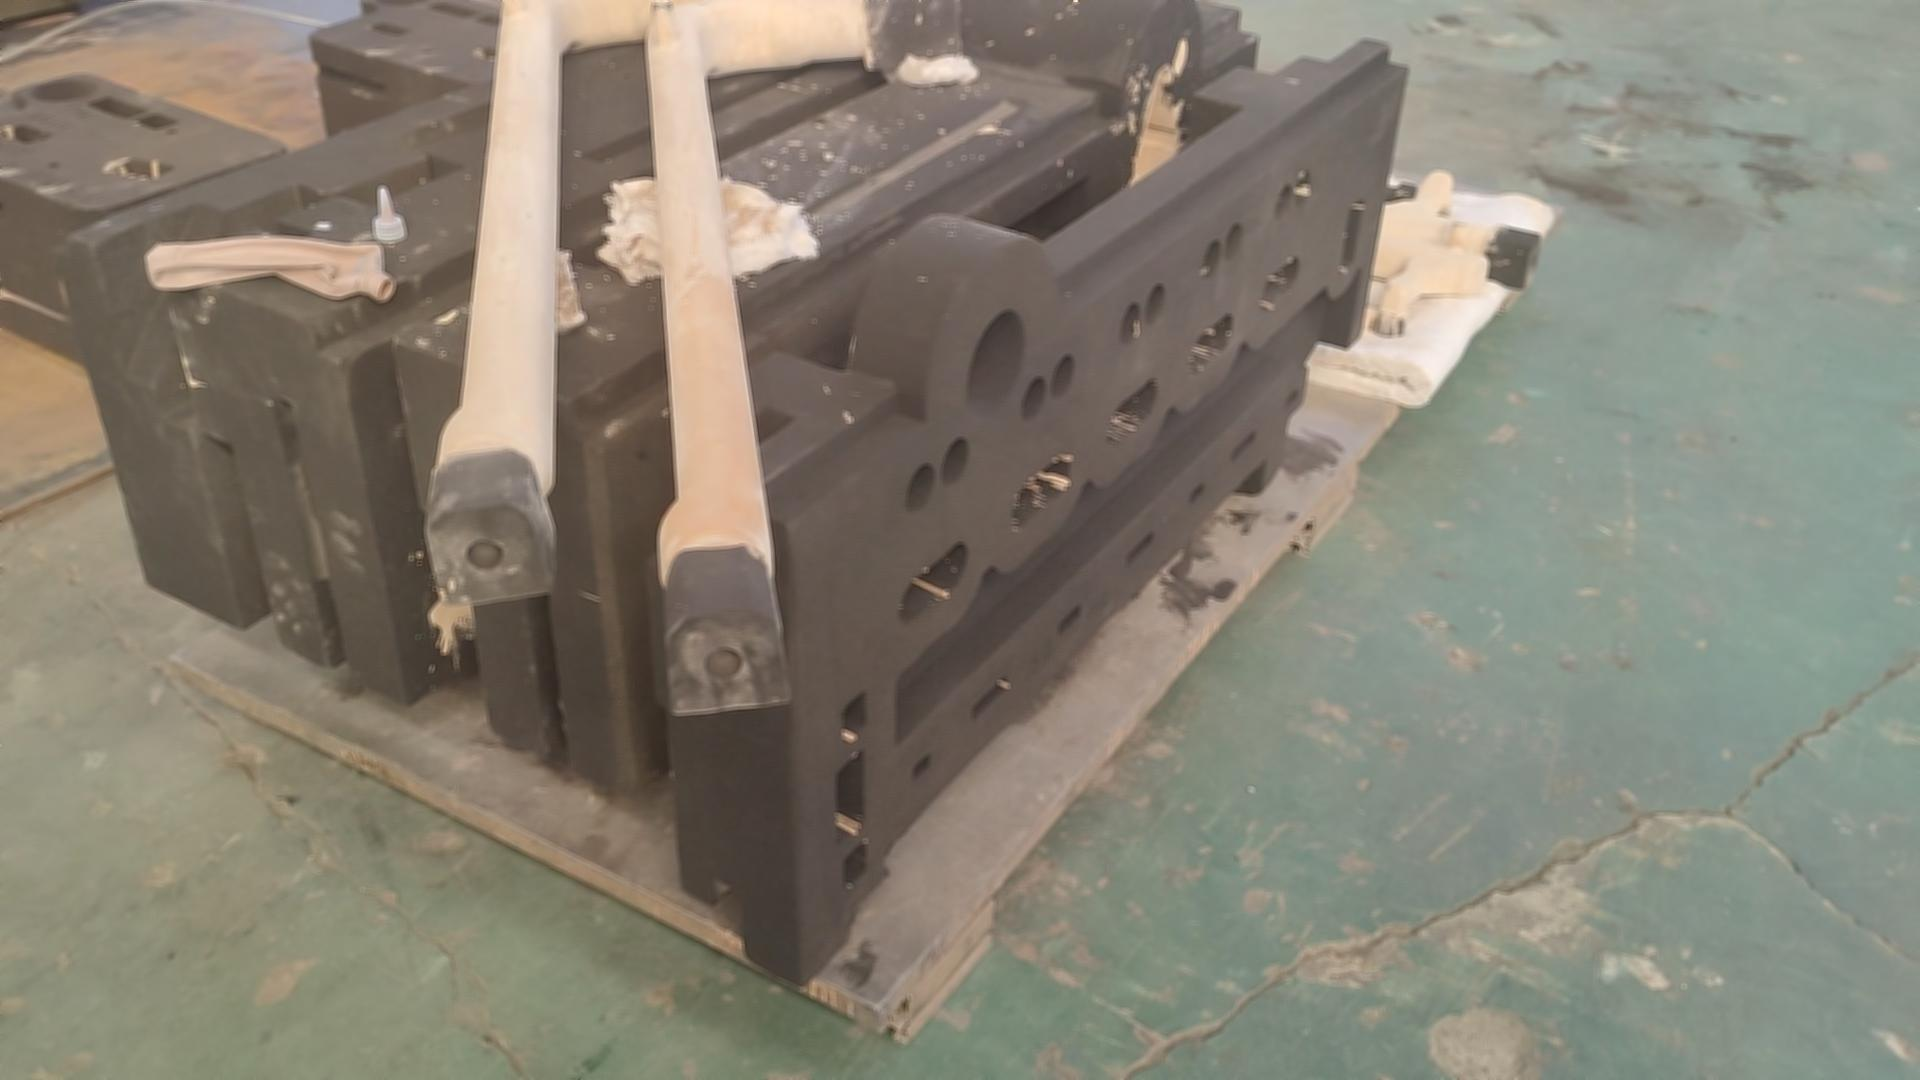pouring hole: (965, 309, 1025, 418), (32, 80, 98, 102), (365, 1, 429, 8)
